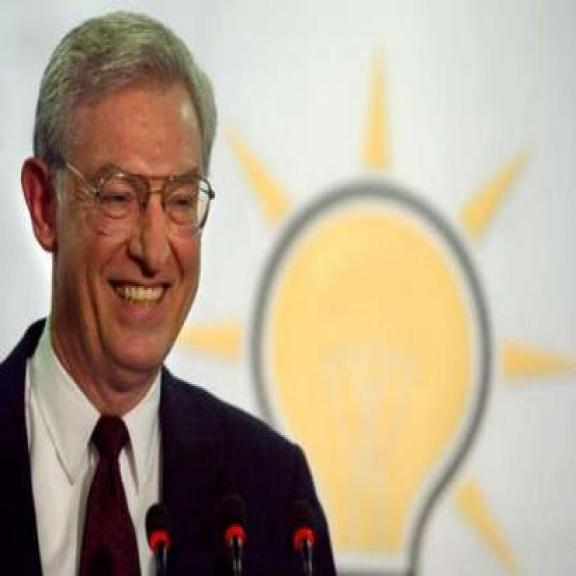face: (27, 80, 215, 384)
